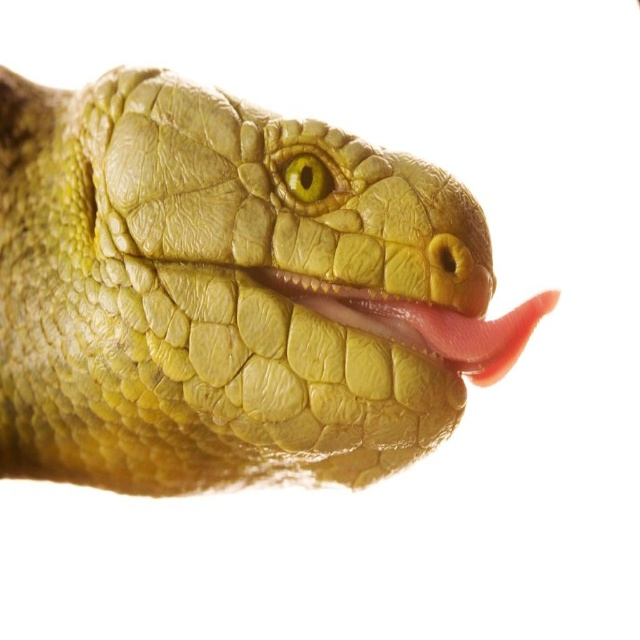Snake: (0, 68, 555, 500)
